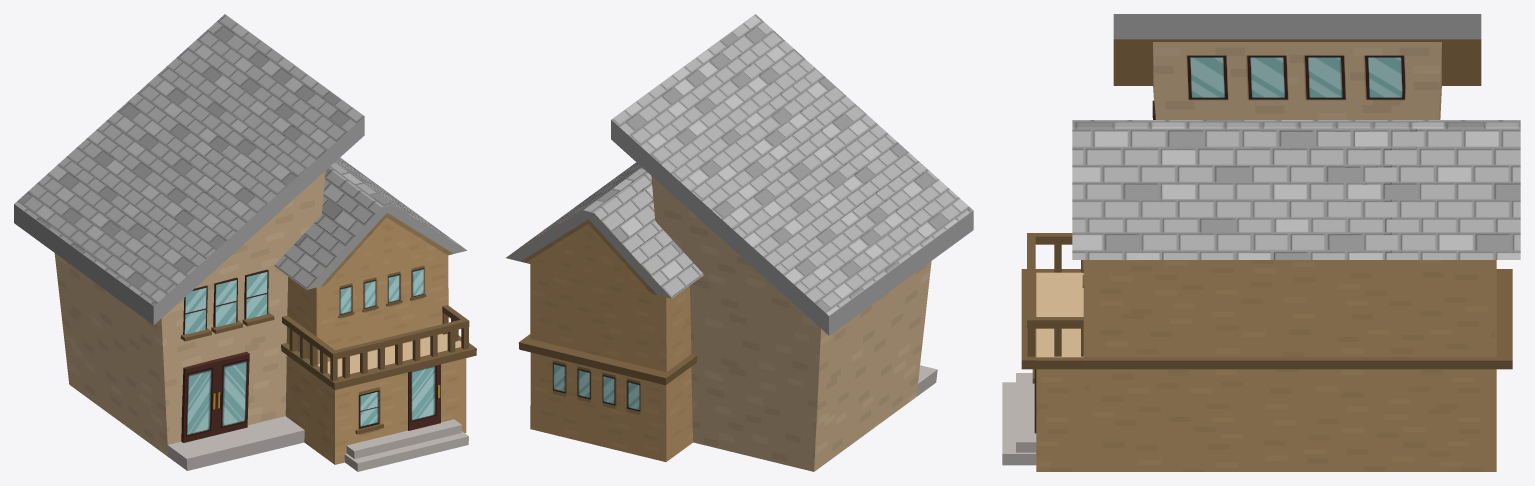
The model's file is city_residential_02.fbx.
3 views of the same model, side by side, from view 1: azimuth 30°, elevation 25°; view 2: azimuth 150°, elevation 25°; view 3: azimuth 270°, elevation 25° (orthographic). The views are drawn at different scales.
Visible parts, largest first — view 1: polySurface709; view 2: polySurface709; view 3: polySurface709.
Part boxes in pixels (x1,y1,x2,y2): polySurface709: (14,14,476,471); polySurface709: (506,14,973,471); polySurface709: (1002,14,1520,471).
Size of the model in its own units: 8.5 by 8.52 by 9.73.
